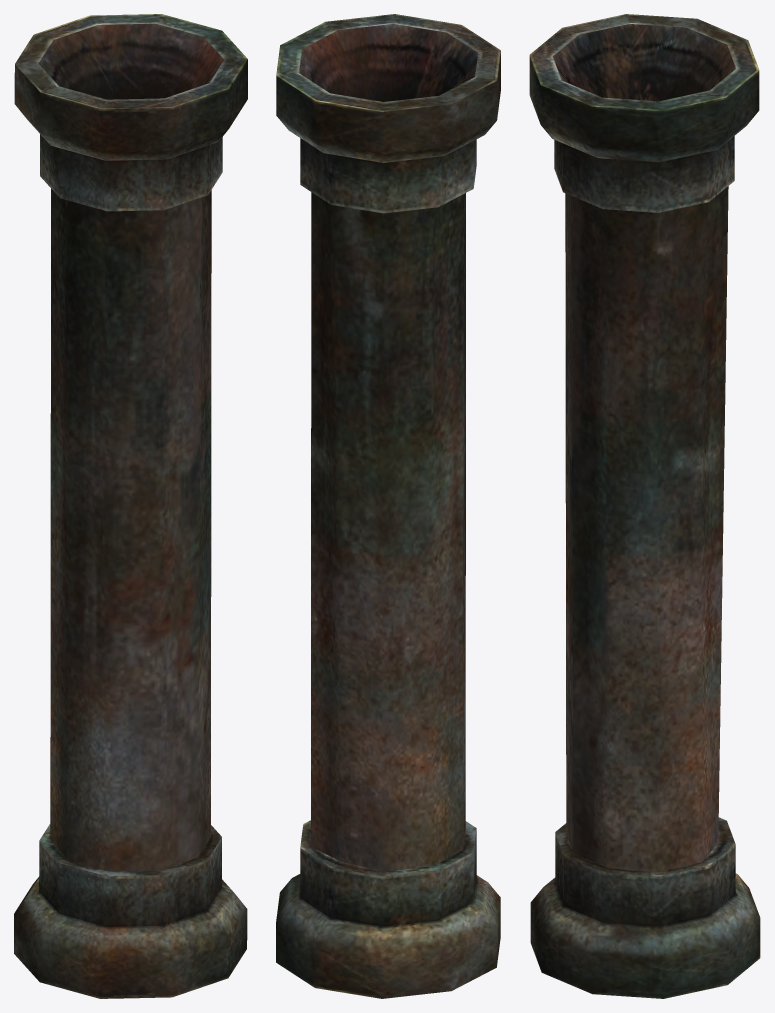
The model's file is pipe_comm_room_breakable_bottom.dae.
3 views of the same model, side by side, from view 1: azimuth 30°, elevation 25°; view 2: azimuth 150°, elevation 25°; view 3: azimuth 270°, elevation 25° (orthographic).
Parts seen in each view (by area): view 1: Mesh; view 2: Mesh; view 3: Mesh.
Boxes of the visible parts, x1,y1,x2,y2 form: Mesh: (14, 14, 247, 998); Mesh: (276, 14, 500, 998); Mesh: (529, 14, 760, 998).
Size of the model in its own units: 0.2608 by 1.11 by 0.2615.
